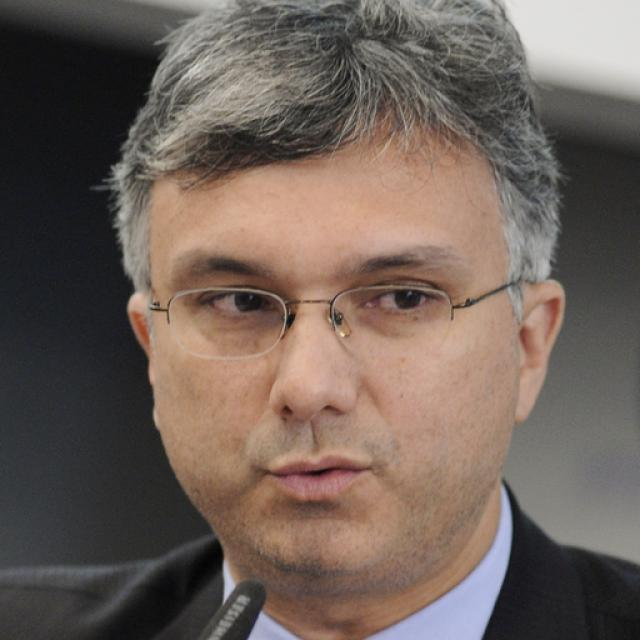neutral: (152, 142, 520, 582)
